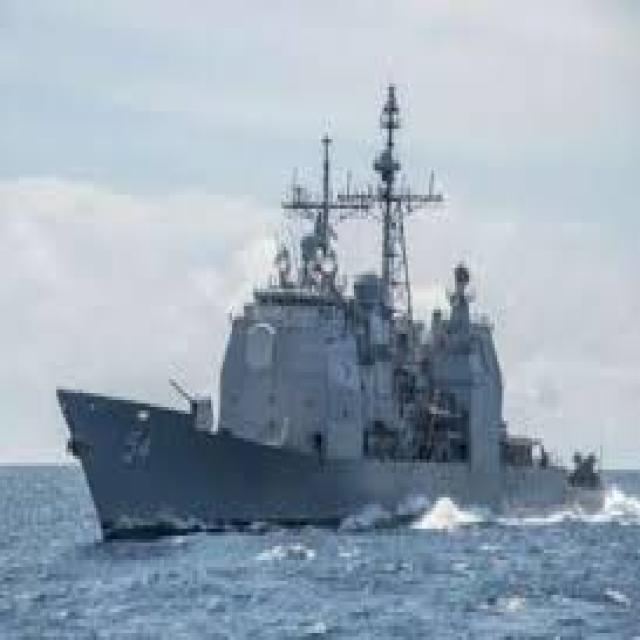navalvessels: (51, 98, 608, 544)
